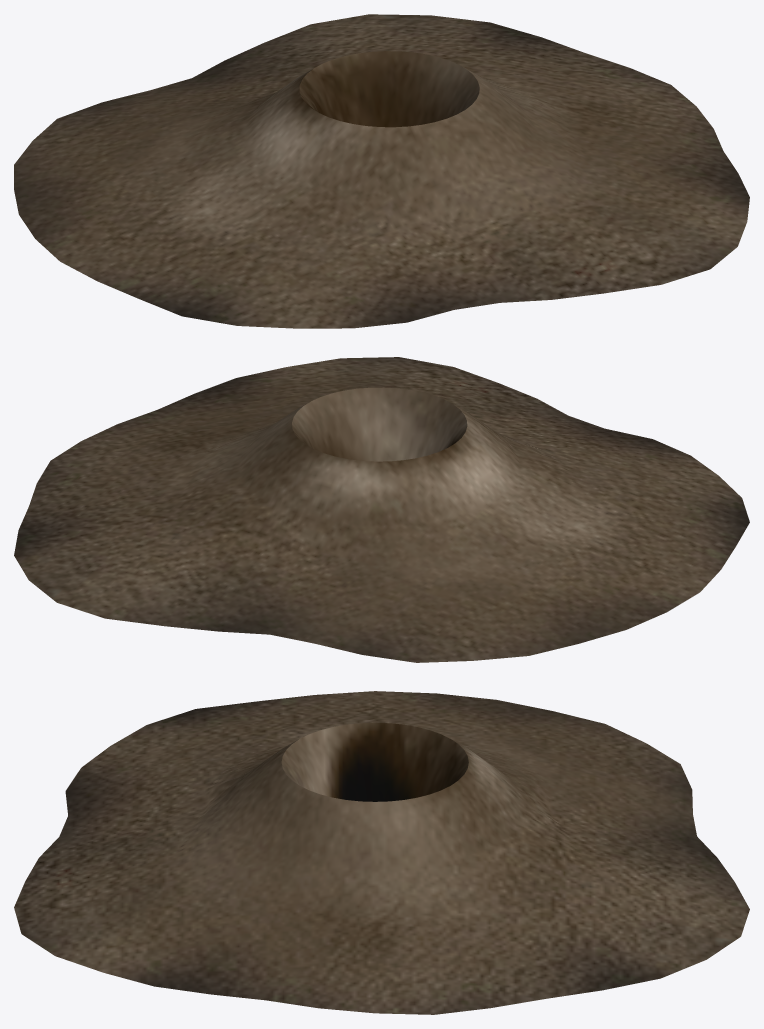
File: Building_SteamGeyser.obj
3 views of the same model, one above another, from view 1: azimuth 30°, elevation 25°; view 2: azimuth 150°, elevation 25°; view 3: azimuth 270°, elevation 25° (orthographic). The views are drawn at different scales.
Parts seen in each view (by area): view 1: Body; view 2: Body; view 3: Body.
Part boxes in pixels (bbox=[...]): Body: bbox=[14, 14, 749, 328]; Body: bbox=[14, 357, 749, 662]; Body: bbox=[14, 691, 749, 1014].
Bounding box in the file's own units: 1.6 × 0.22 × 1.54.
Materials: 1 (1 with a texture image).
